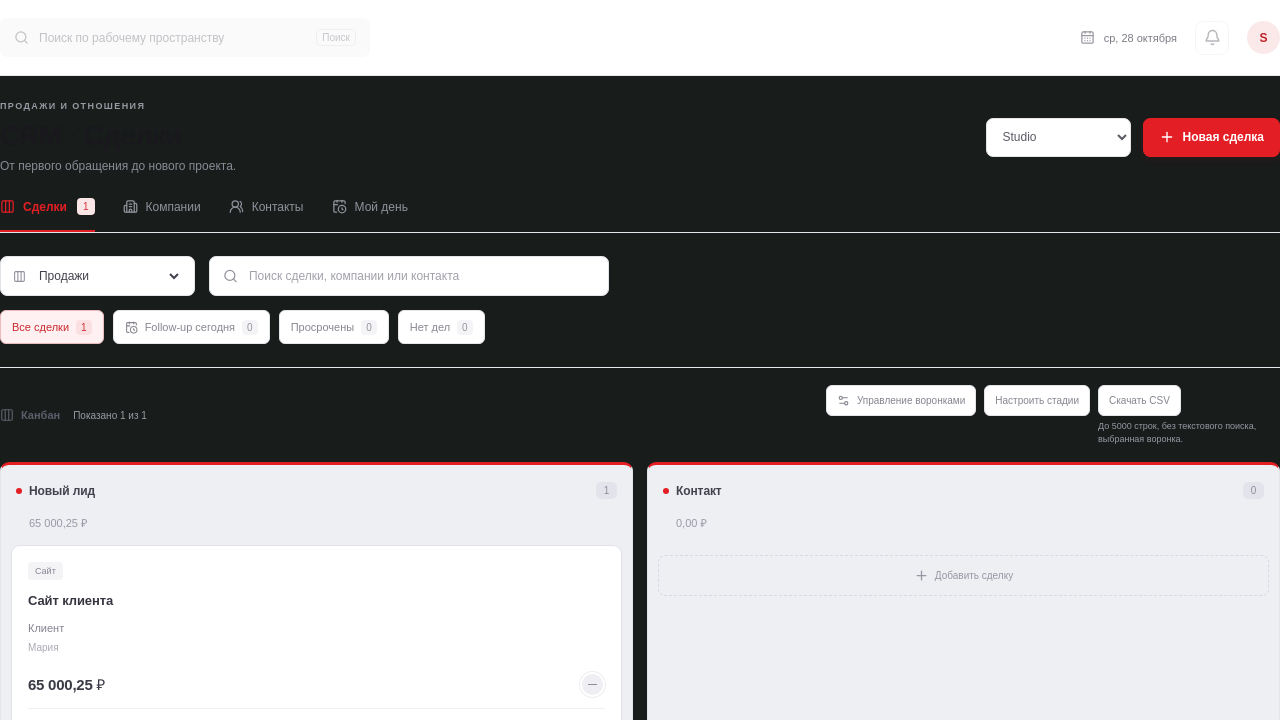
Test: CRM persistence › creates a second pipeline and keeps a draft after an API error
Click the button "Управление воронками" at (901, 400), box [826,385,976,416]
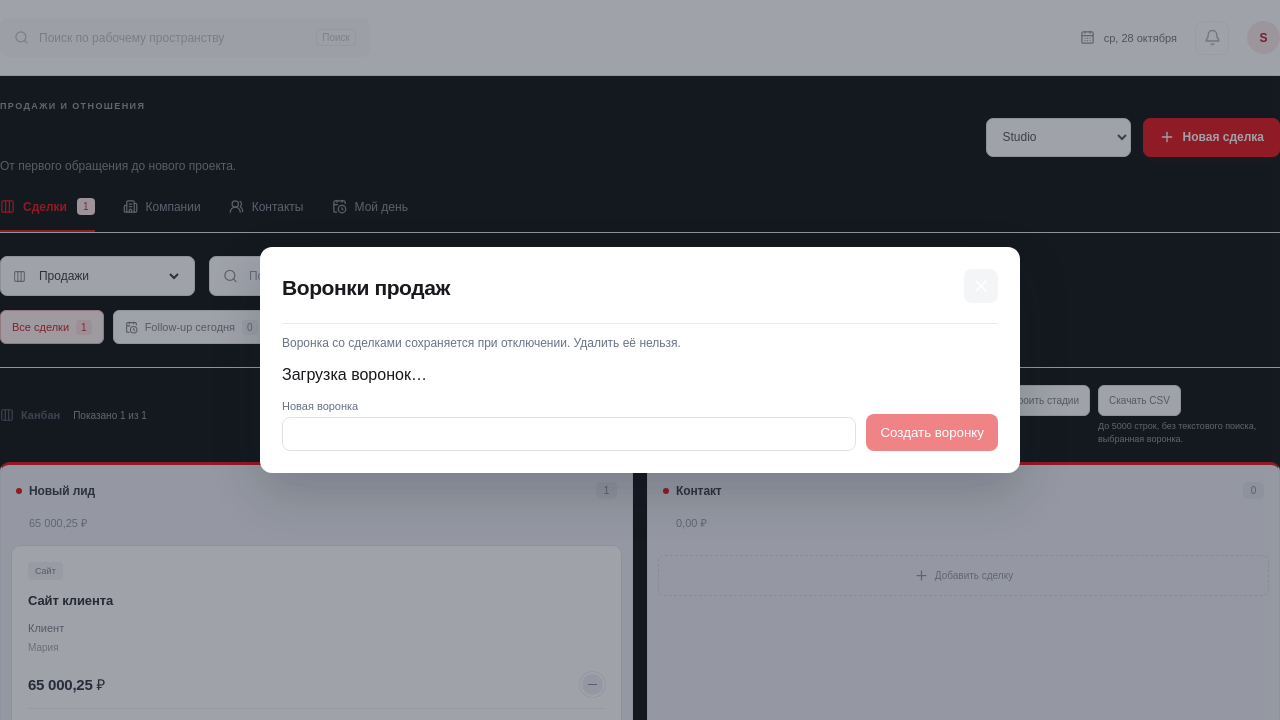
Now the field labelled "Новая воронка" is shown
Type "Сопровождение" into the field labelled "Новая воронка" at (569, 434), box [282,417,856,451]
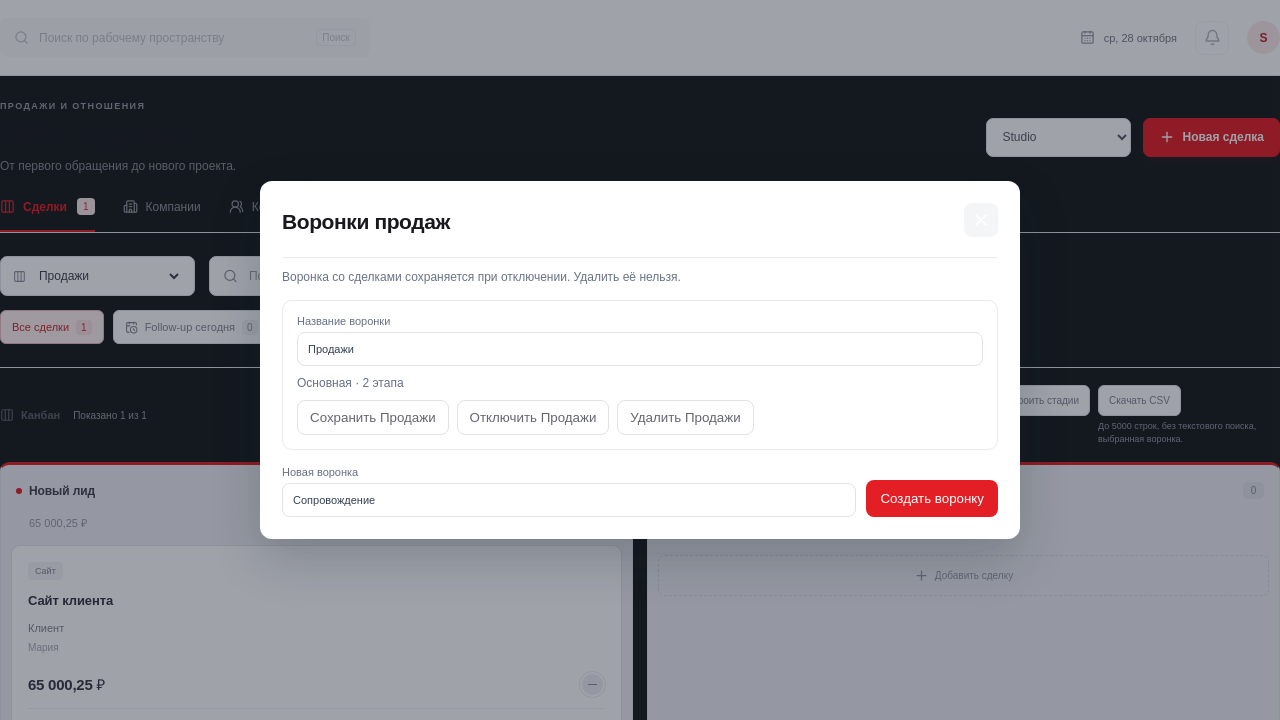
Click the button "Создать воронку" at (932, 498), box [866,480,998,517]
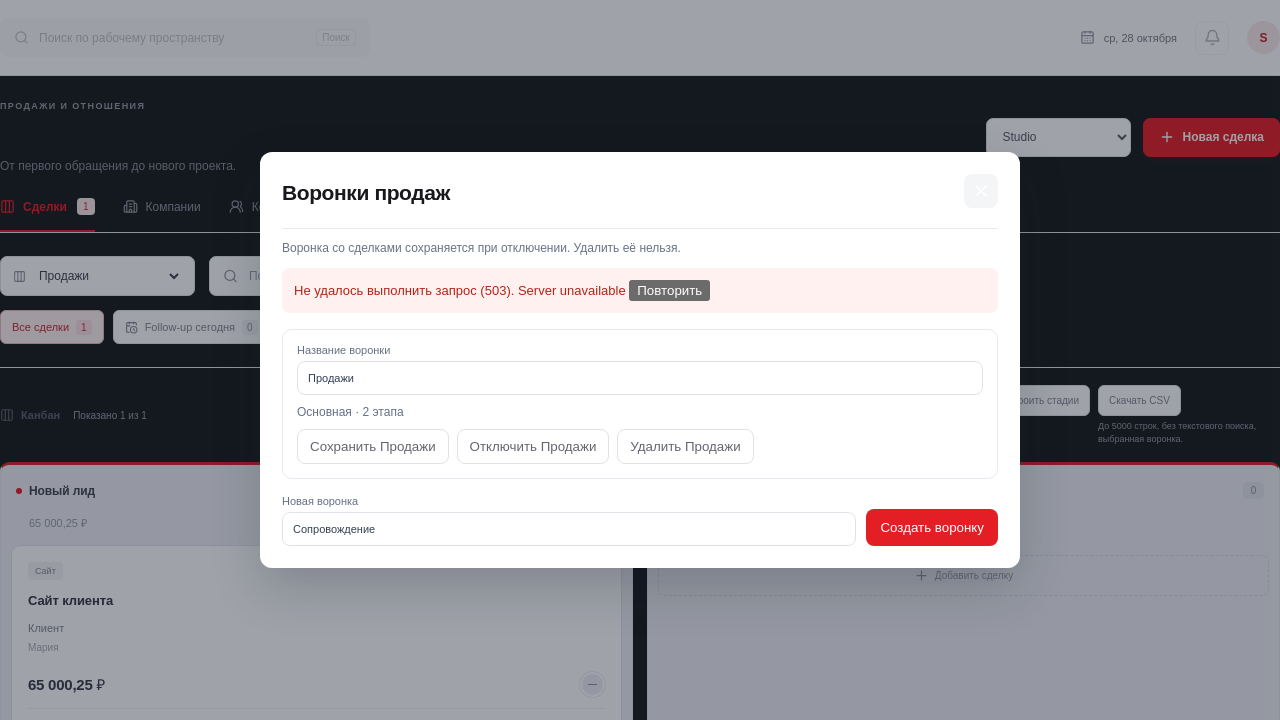
Now the message "Не удалось выполнить запрос (503). Server unavailable Повторить" is shown, box [282,268,998,313]
Click the button "Создать воронку" at (932, 528), box [866,509,998,546]
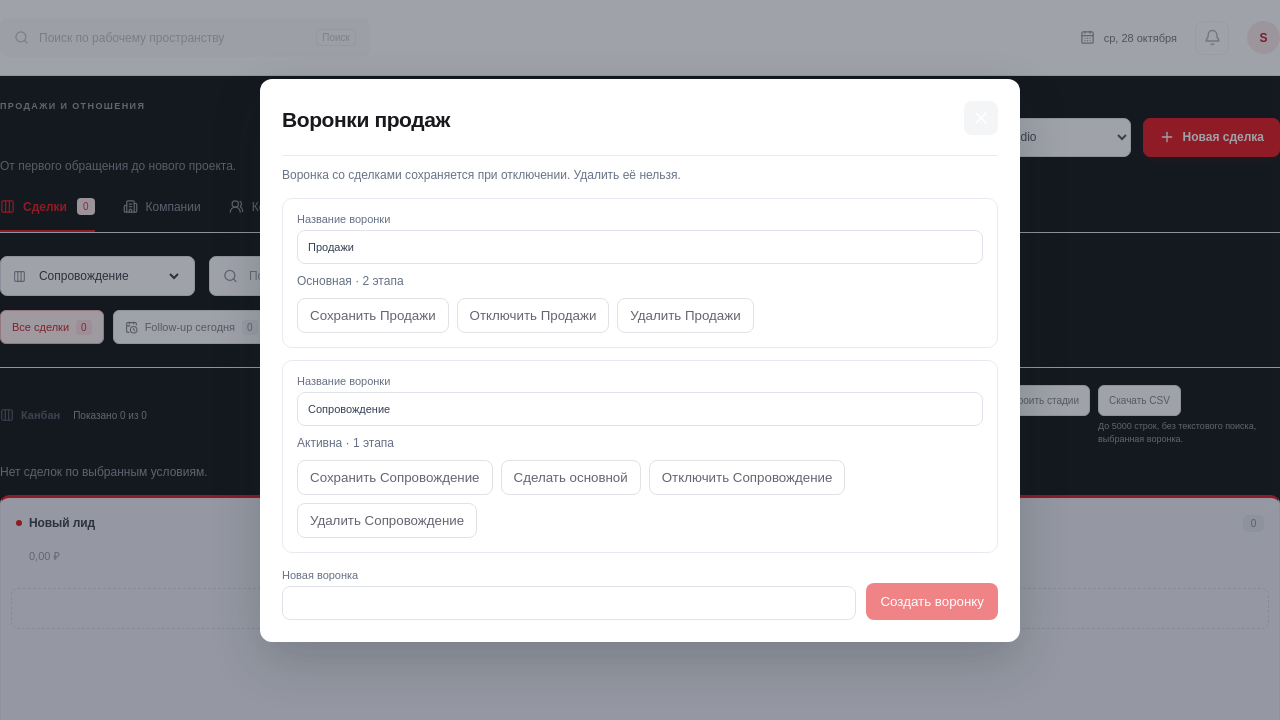
Now the dropdown named "Воронка" shows "Сопровождение", box [35,260,182,292]
Click the button "Отключить Сопровождение" at (747, 477), box [649,460,845,494]
(page scrolled)
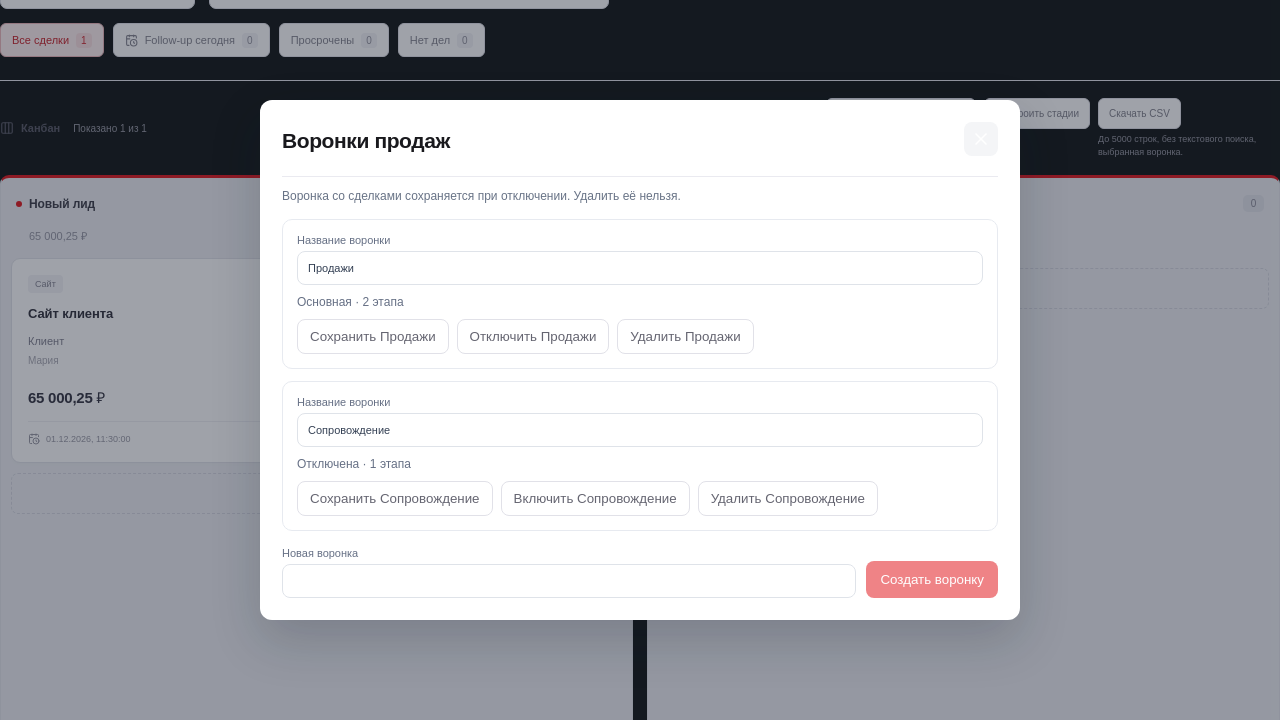
Now the element named "Открыть Сайт клиента" is shown, box [11,258,622,463]
